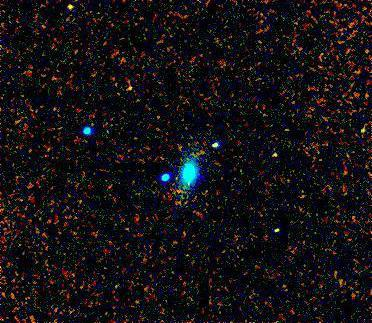star: (50, 0, 80, 24)
